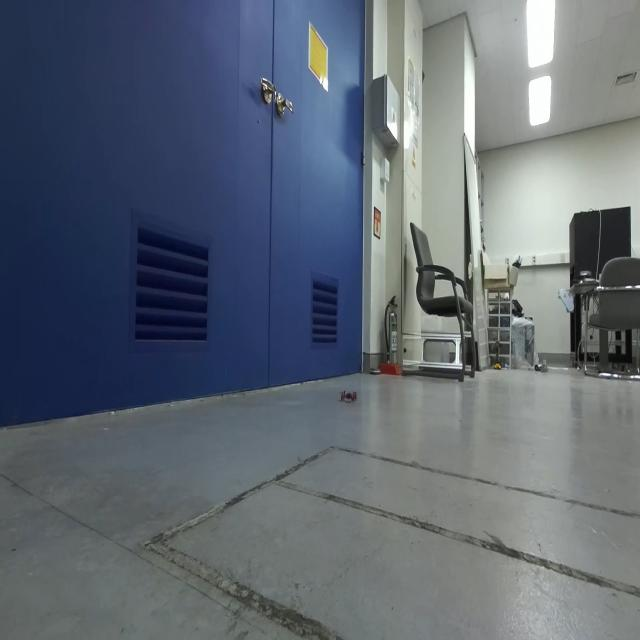crazyflie: (338, 382, 361, 407)
